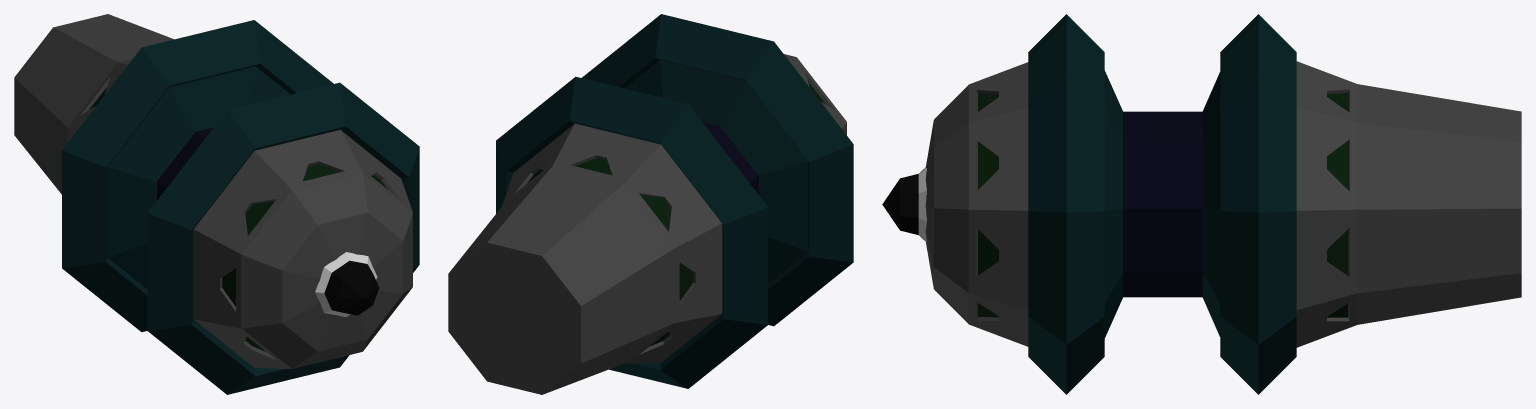
Rendered from sniper3_base.obj.
3 views of the same model, side by side, from view 1: azimuth 30°, elevation 25°; view 2: azimuth 150°, elevation 25°; view 3: azimuth 270°, elevation 25° (orthographic). The views are drawn at different scales.
Visible parts, largest first — view 1: Circle.002; view 2: Circle.002; view 3: Circle.002.
Part boxes in pixels (bbox=[...]): Circle.002: bbox=[14, 14, 419, 394]; Circle.002: bbox=[448, 14, 853, 394]; Circle.002: bbox=[882, 14, 1521, 394].
Bounding box in the file's own units: 2.37 × 2.37 × 4.3.
